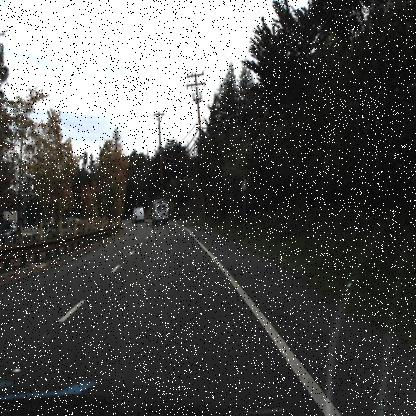car: (147, 198, 168, 225), (131, 202, 145, 223), (65, 213, 81, 225)
